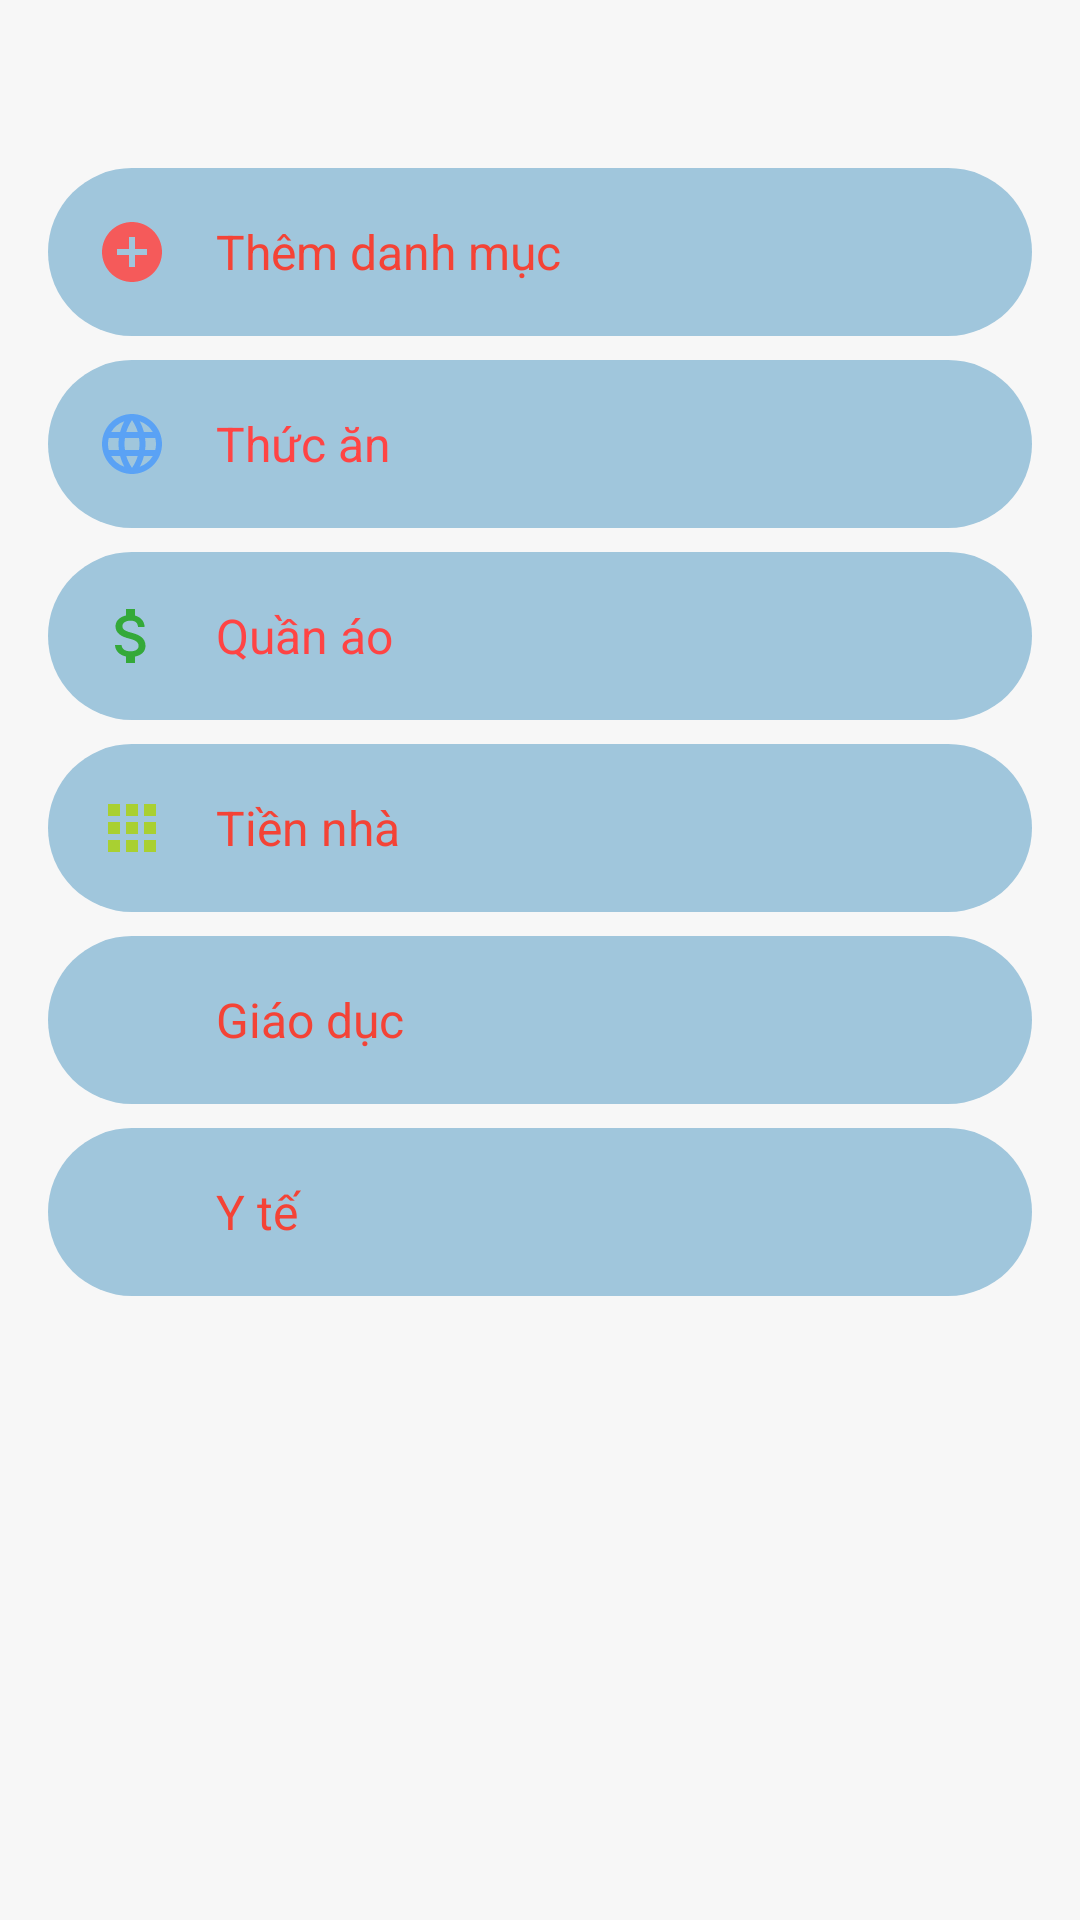

Point at icon controls on the screen. Image size 1080 × 1920, points as [x,y].
add: [132,252]
app: [132,828]
language: [132,444]
money: [130,636]
